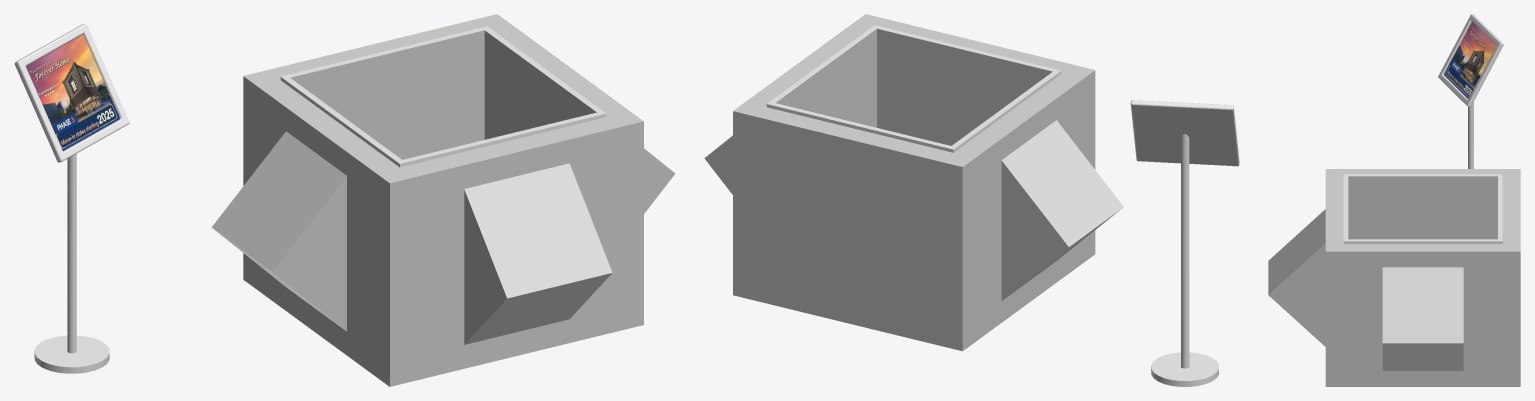
File: mdl_zesty_condo_table.gltf
3 renders of one model, left to right at view 1: azimuth 30°, elevation 25°; view 2: azimuth 150°, elevation 25°; view 3: azimuth 270°, elevation 25°, orthographic. The views are drawn at different scales.
Parts seen in each view (by area): view 1: mdl_zesty_condo_table, mdl_zesty_condoad_frame, mdl_zesty_condoad_stand; view 2: mdl_zesty_condo_table, mdl_zesty_condoad_frame, mdl_zesty_condoad_stand; view 3: mdl_zesty_condo_table, mdl_zesty_condoad_frame, mdl_zesty_condoad_stand.
Part boxes in pixels (left/top/right/bottom): mdl_zesty_condo_table: left=211, top=14, right=675, bottom=386; mdl_zesty_condoad_frame: left=14, top=23, right=129, bottom=162; mdl_zesty_condoad_stand: left=34, top=154, right=109, bottom=373; mdl_zesty_condo_table: left=704, top=14, right=1123, bottom=351; mdl_zesty_condoad_frame: left=1130, top=100, right=1239, bottom=166; mdl_zesty_condoad_stand: left=1151, top=134, right=1218, bottom=386; mdl_zesty_condo_table: left=1268, top=169, right=1520, bottom=386; mdl_zesty_condoad_frame: left=1438, top=14, right=1503, bottom=107; mdl_zesty_condoad_stand: left=1468, top=102, right=1473, bottom=168.
Size of the model in its own units: 3.04 by 1.52 by 1.69.
3 materials, 1 textured.
